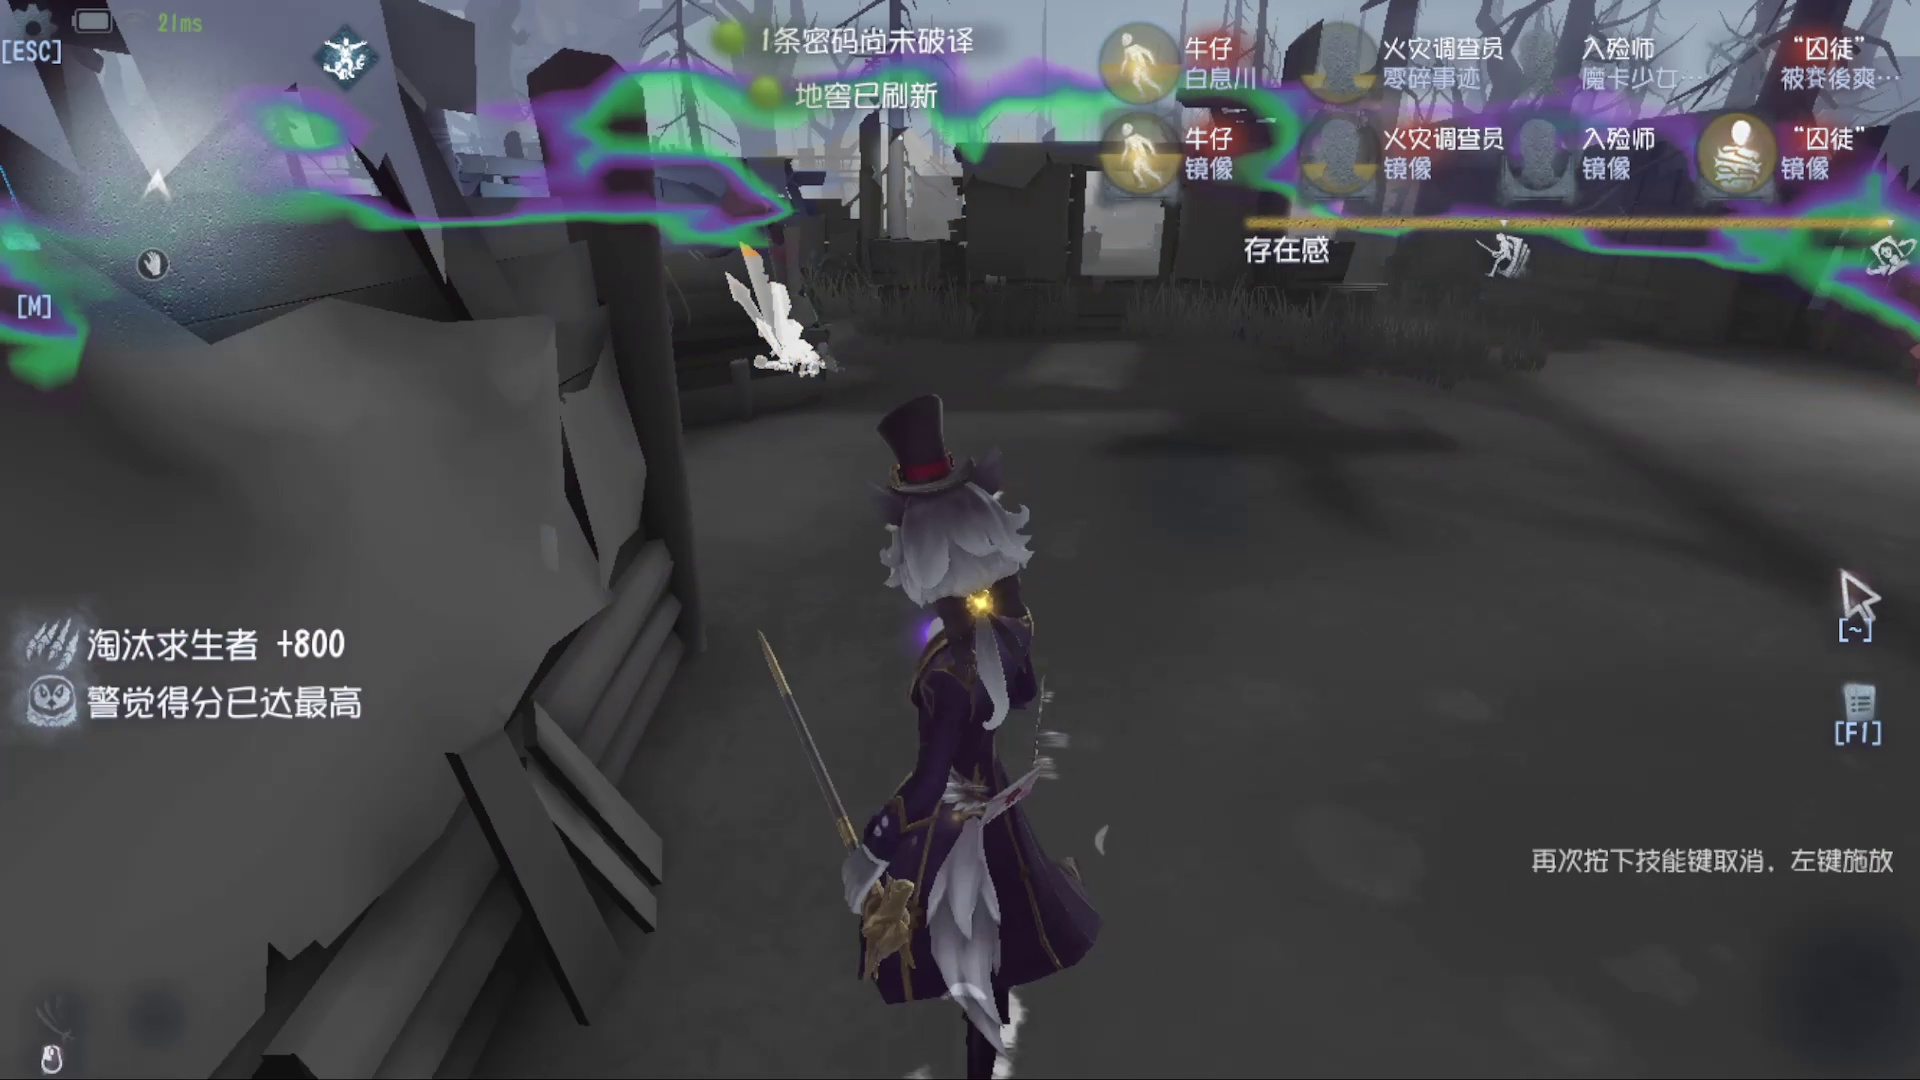狂欢之椅: (720, 231, 853, 375)
